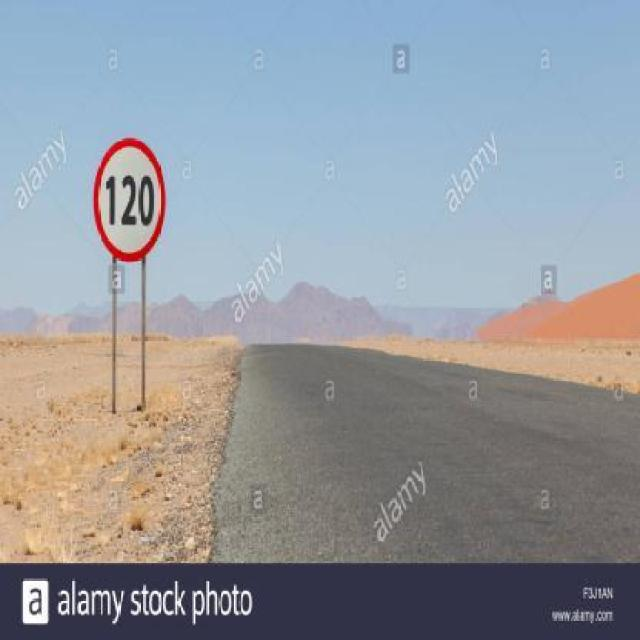forb_speed_over_120: (94, 134, 166, 260)
